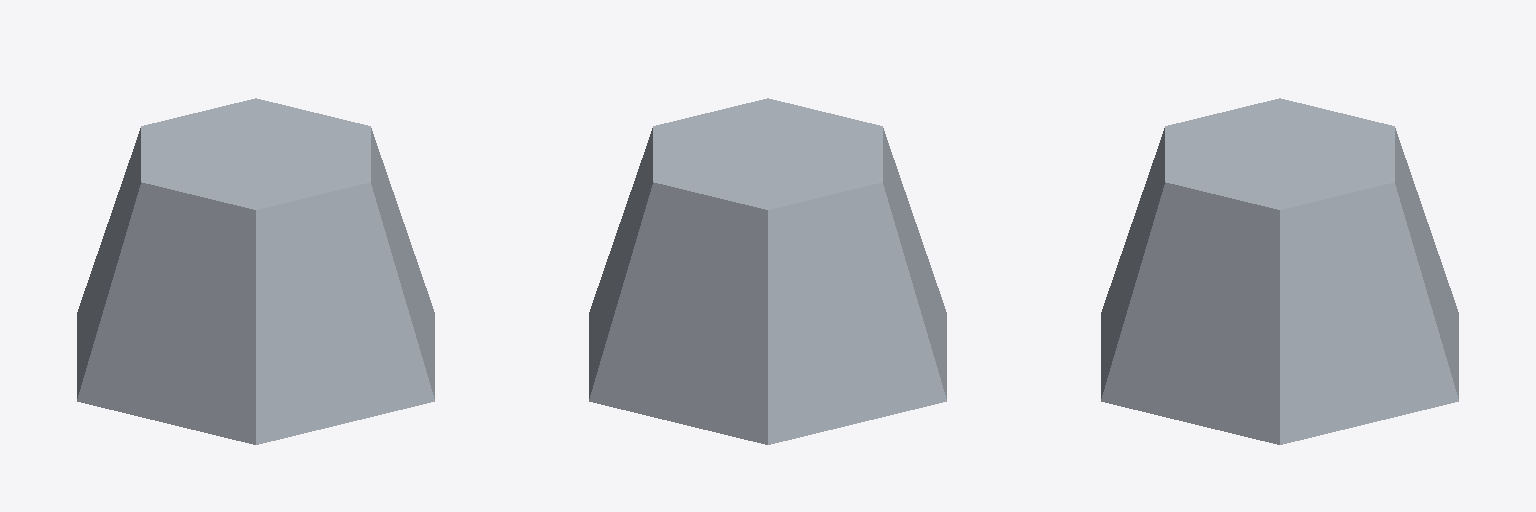
File: Rock_1_01.obj
3 views of the same model, side by side, from view 1: azimuth 30°, elevation 25°; view 2: azimuth 150°, elevation 25°; view 3: azimuth 270°, elevation 25° (orthographic).
Visible parts, largest first — view 1: Mesh1_Rock_1_Model; view 2: Mesh1_Rock_1_Model; view 3: Mesh1_Rock_1_Model.
Part boxes in pixels (left/top/right/bottom): Mesh1_Rock_1_Model: left=77, top=98, right=434, bottom=444; Mesh1_Rock_1_Model: left=589, top=98, right=946, bottom=444; Mesh1_Rock_1_Model: left=1101, top=98, right=1458, bottom=444.
Bounding box in the file's own units: 1.18 × 0.64 × 1.02.